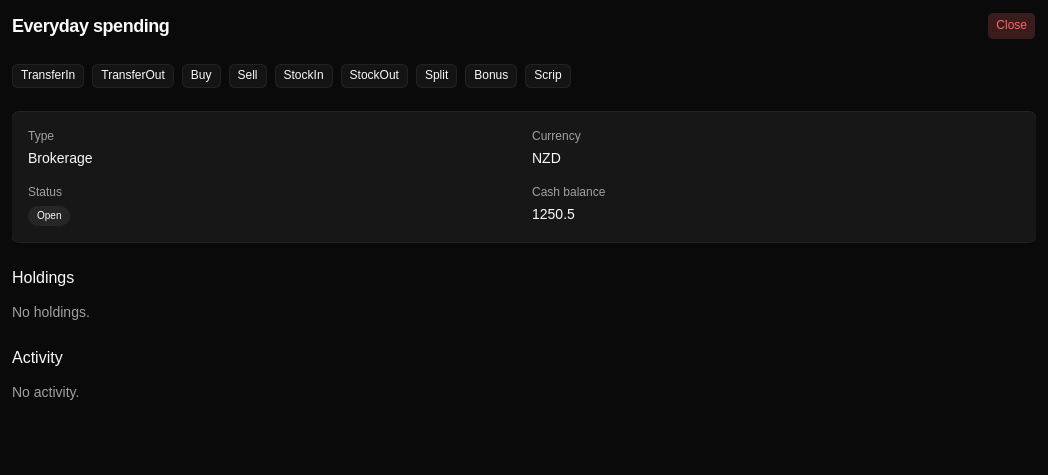
Test: AccountDetailPage › asks the user to reload on 409 and does not replay the stale rowVersion
The width and height of the screenshot is (1048, 475).
Click the button "Close": (1012, 26) [987,12,1036,40]
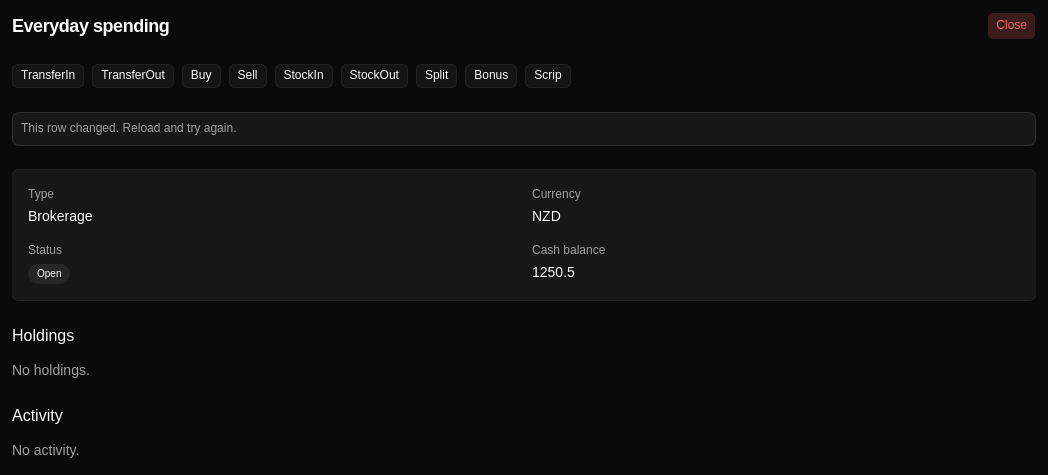
Expected: the icon "Open" is shown, [28,264,70,284]
Result: the text "This row changed. Reload and try again." is shown at [21,121,236,135]
